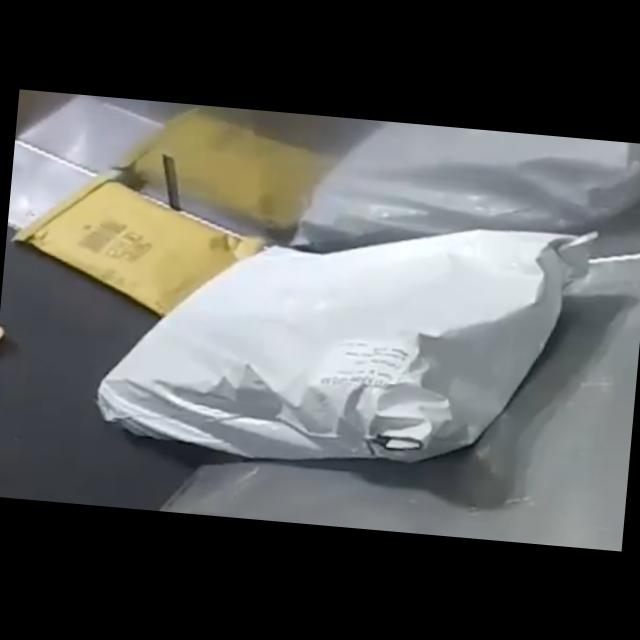mailer: (99, 192, 595, 494), (16, 168, 268, 320)
